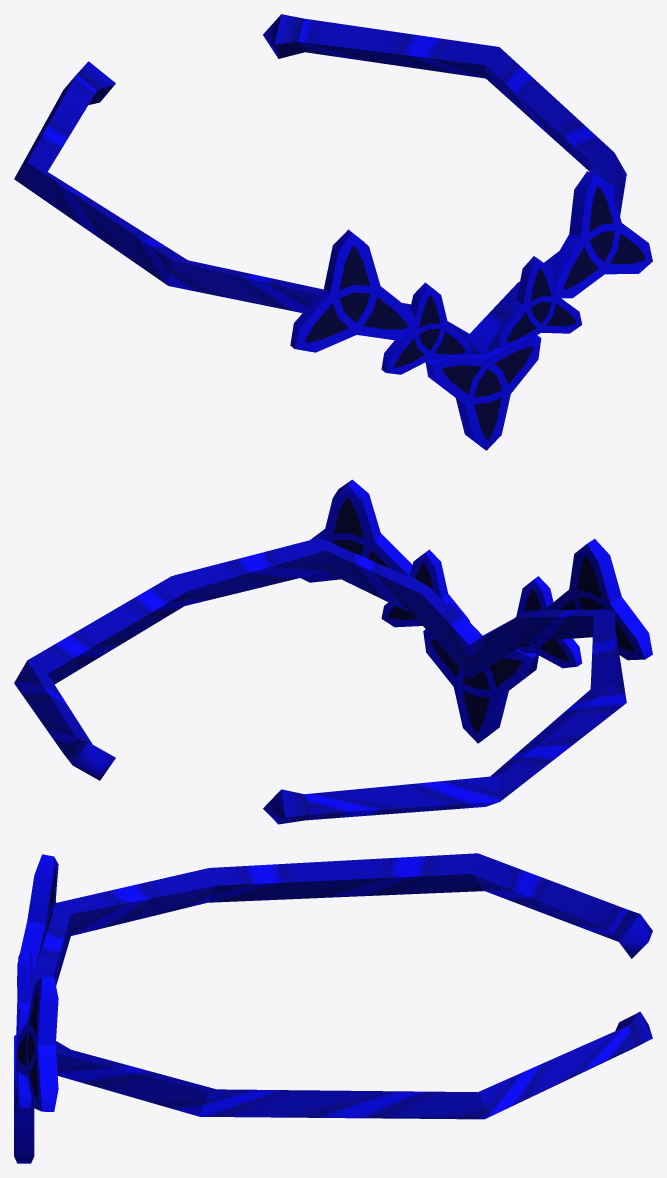
File: GoldCirclet_M.fbx
3 renders of one model, top to bottom at view 1: azimuth 30°, elevation 25°; view 2: azimuth 150°, elevation 25°; view 3: azimuth 270°, elevation 25°, orthographic. The views are drawn at different scales.
Parts seen in each view (by area): view 1: GoldCirclet_M; view 2: GoldCirclet_M; view 3: GoldCirclet_M.
Boxes of the visible parts, bbox=[...] form: GoldCirclet_M: bbox=[14, 14, 652, 450]; GoldCirclet_M: bbox=[14, 479, 652, 824]; GoldCirclet_M: bbox=[14, 853, 652, 1163].
Bounding box in the file's own units: 24.13 × 11.33 × 26.5.
